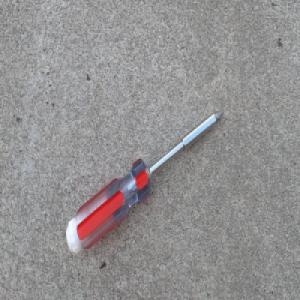Screwdriver: (64, 106, 224, 253)
